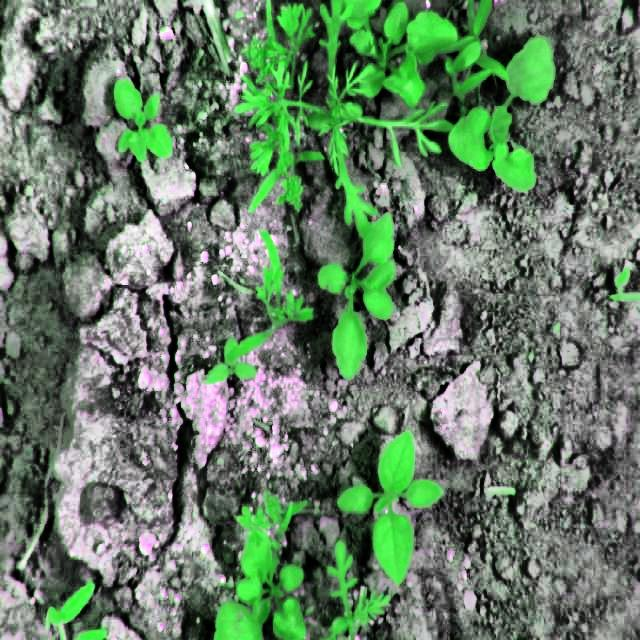Weeds: (339, 429, 442, 582), (309, 215, 402, 382), (213, 538, 306, 638), (106, 77, 176, 165), (199, 318, 268, 387)
undefined: (235, 0, 458, 215), (318, 531, 392, 639), (243, 236, 317, 331)
